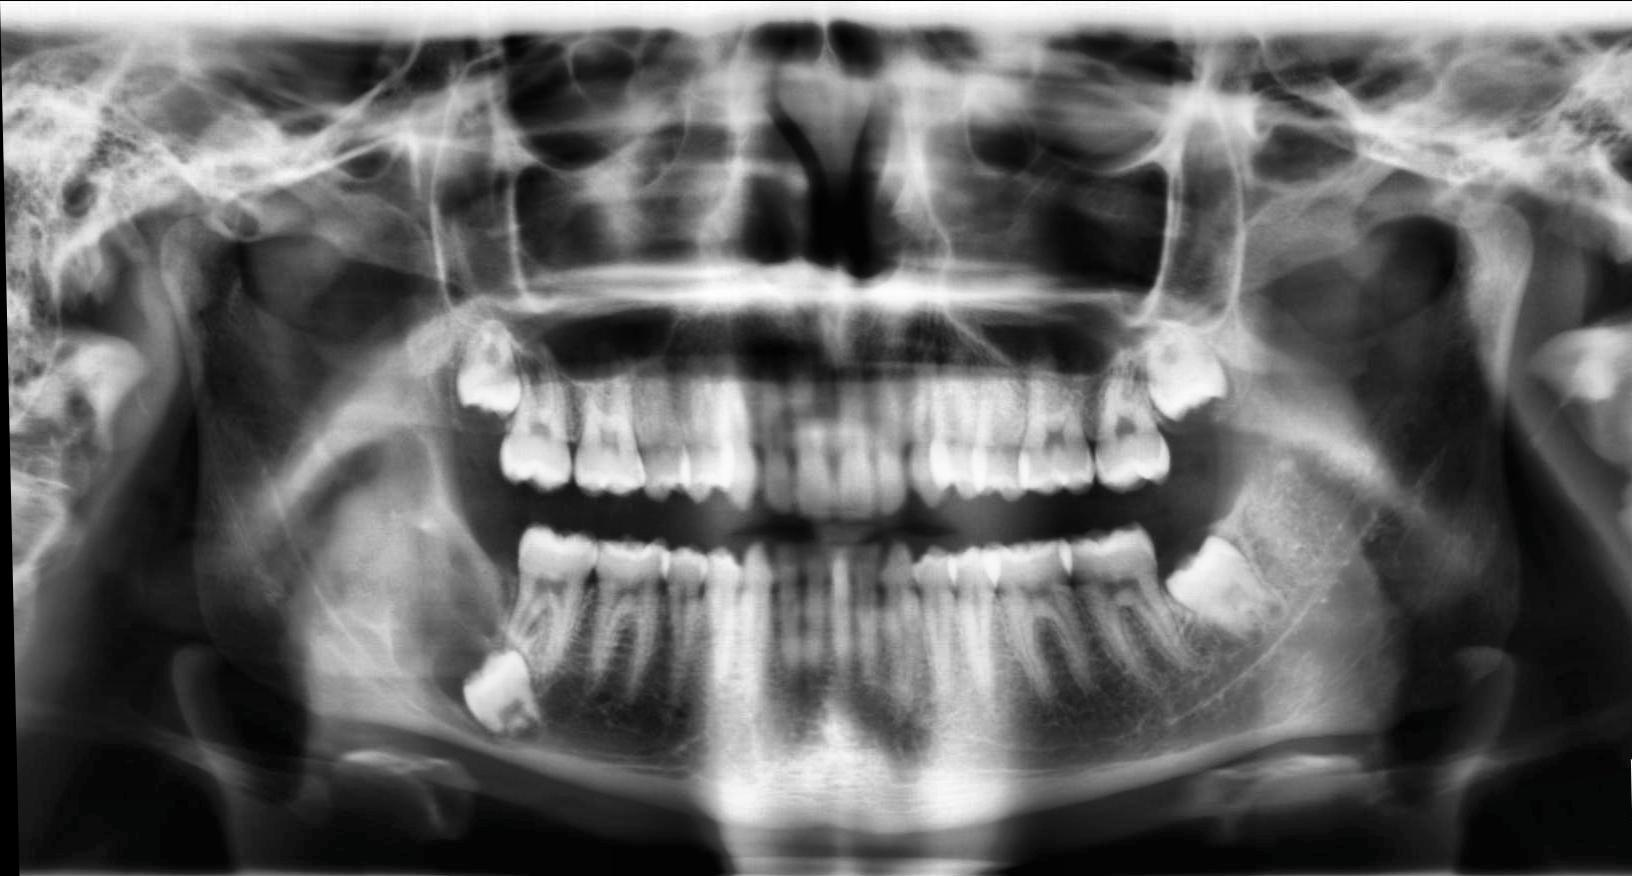okc: (276, 397, 533, 737)
